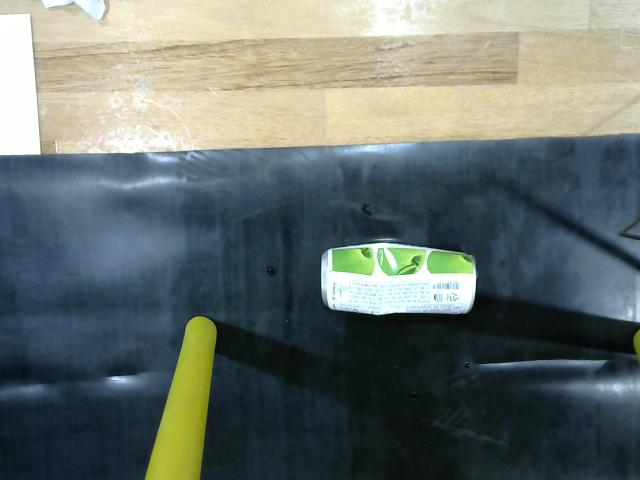can: (313, 229, 480, 321)
